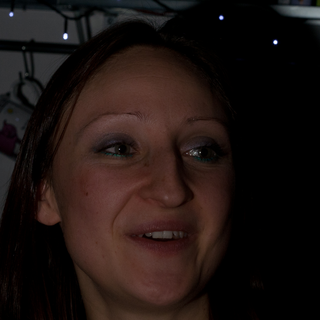eye: (90, 138, 145, 161), (179, 140, 225, 165)
